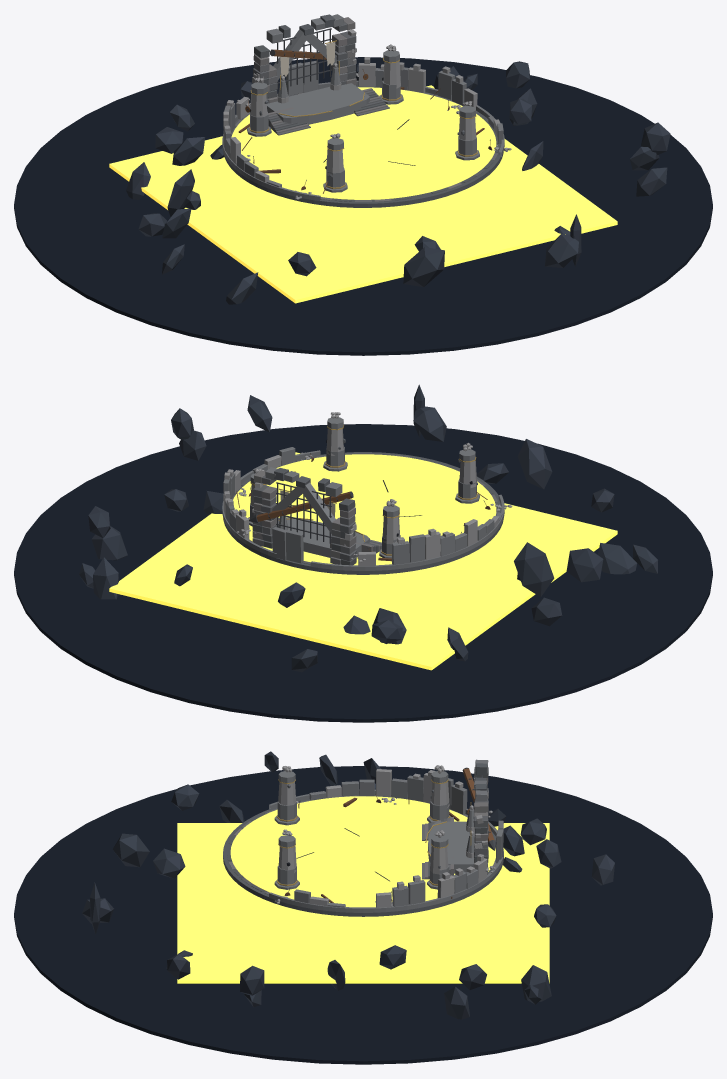
Rendered from saint_broken_siege_room.glb.
3 renders of one model, top to bottom at view 1: azimuth 30°, elevation 25°; view 2: azimuth 150°, elevation 25°; view 3: azimuth 270°, elevation 25°, orthographic.
Visible parts, largest first — view 1: Abyss_Backdrop, TRIGGER_Void_Kill_Zone, NAV_Boundary_Outer, Boss_Platform_Faceted, Arena_Foundation, Floating_Abyss_Rock_21, Floating_Abyss_Rock_14, Floating_Abyss_Rock_00, Floating_Abyss_Rock_11, Floating_Abyss_Rock_04, Floating_Abyss_Rock_09, Floating_Abyss_Rock_13 (+4 smaller); view 2: Abyss_Backdrop, TRIGGER_Void_Kill_Zone, NAV_Boundary_Outer, Arena_Foundation, Floating_Abyss_Rock_11, Boss_Platform_Faceted, Floating_Abyss_Rock_21, Danger_Ledge_1, Floating_Abyss_Rock_02, Floating_Abyss_Rock_16, Floating_Abyss_Rock_14, Floating_Abyss_Rock_15 (+10 smaller); view 3: Abyss_Backdrop, TRIGGER_Void_Kill_Zone, NAV_Boundary_Outer, Arena_Foundation, Boss_Platform_Faceted, Floating_Abyss_Rock_21, Danger_Ledge_0, Floating_Abyss_Rock_20, Floating_Abyss_Rock_03, Floating_Abyss_Rock_15, Floating_Abyss_Rock_09, Floating_Abyss_Rock_06 (+7 smaller).
Boxes of the visible parts, x1,y1,x2,y2 form: Abyss_Backdrop: [14, 57, 712, 355]; TRIGGER_Void_Kill_Zone: [109, 85, 617, 303]; NAV_Boundary_Outer: [231, 87, 496, 199]; Boss_Platform_Faceted: [267, 83, 369, 124]; Arena_Foundation: [223, 86, 503, 207]; Floating_Abyss_Rock_21: [403, 247, 444, 287]; Floating_Abyss_Rock_14: [545, 234, 578, 267]; Floating_Abyss_Rock_00: [172, 137, 205, 165]; Floating_Abyss_Rock_11: [167, 169, 194, 216]; Floating_Abyss_Rock_04: [636, 167, 667, 196]; Floating_Abyss_Rock_09: [641, 122, 670, 154]; Floating_Abyss_Rock_13: [126, 162, 150, 199]; Abyss_Backdrop: [14, 424, 712, 722]; TRIGGER_Void_Kill_Zone: [109, 452, 617, 670]; NAV_Boundary_Outer: [233, 454, 496, 565]; Arena_Foundation: [223, 452, 503, 574]; Floating_Abyss_Rock_11: [514, 542, 554, 596]; Boss_Platform_Faceted: [278, 517, 369, 557]; Floating_Abyss_Rock_21: [517, 439, 552, 489]; Danger_Ledge_1: [310, 537, 485, 570]; Floating_Abyss_Rock_02: [566, 548, 603, 582]; Floating_Abyss_Rock_16: [598, 543, 637, 574]; Floating_Abyss_Rock_14: [413, 406, 446, 441]; Floating_Abyss_Rock_15: [91, 526, 127, 560]; Abyss_Backdrop: [14, 766, 712, 1064]; TRIGGER_Void_Kill_Zone: [177, 823, 549, 983]; NAV_Boundary_Outer: [230, 796, 495, 907]; Arena_Foundation: [223, 795, 503, 916]; Boss_Platform_Faceted: [428, 821, 474, 873]; Floating_Abyss_Rock_21: [112, 833, 149, 867]; Danger_Ledge_0: [363, 857, 503, 912]; Floating_Abyss_Rock_20: [153, 848, 185, 878]; Floating_Abyss_Rock_03: [521, 965, 551, 1001]; Floating_Abyss_Rock_15: [444, 986, 469, 1019]; Floating_Abyss_Rock_09: [240, 965, 264, 995]; Floating_Abyss_Rock_06: [591, 854, 614, 885].
Size of what is drawn, in the model's own units: 184 by 45.74 by 184.
